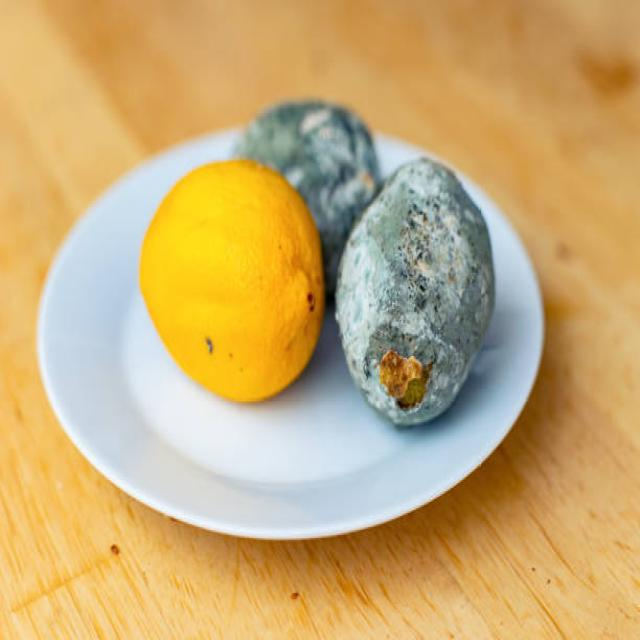Ripe: (137, 155, 325, 403)
Rotten: (334, 157, 495, 427)
